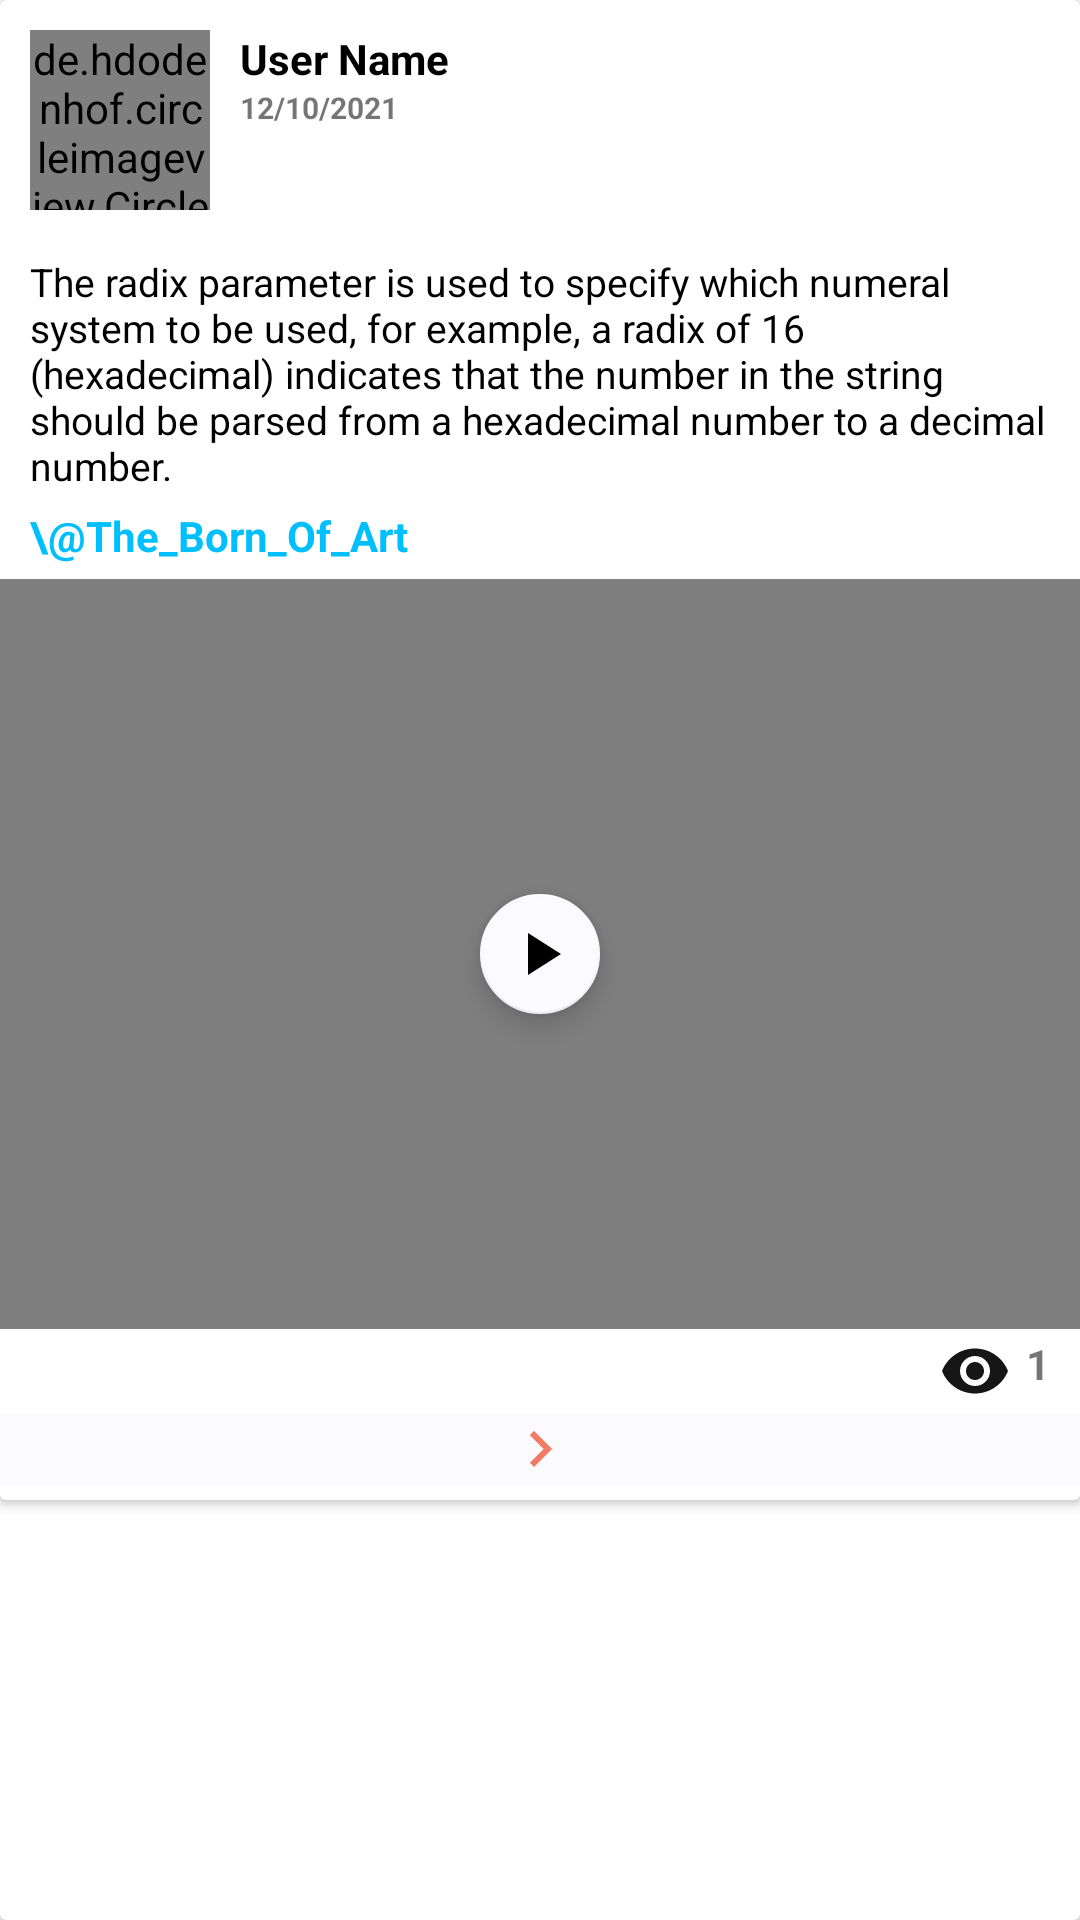

Named icons in this screenshot (1080 x 1920) and their centers, point (x, y):
go details: point (541, 1449)
play video: point (540, 954)
views: point (975, 1371)
